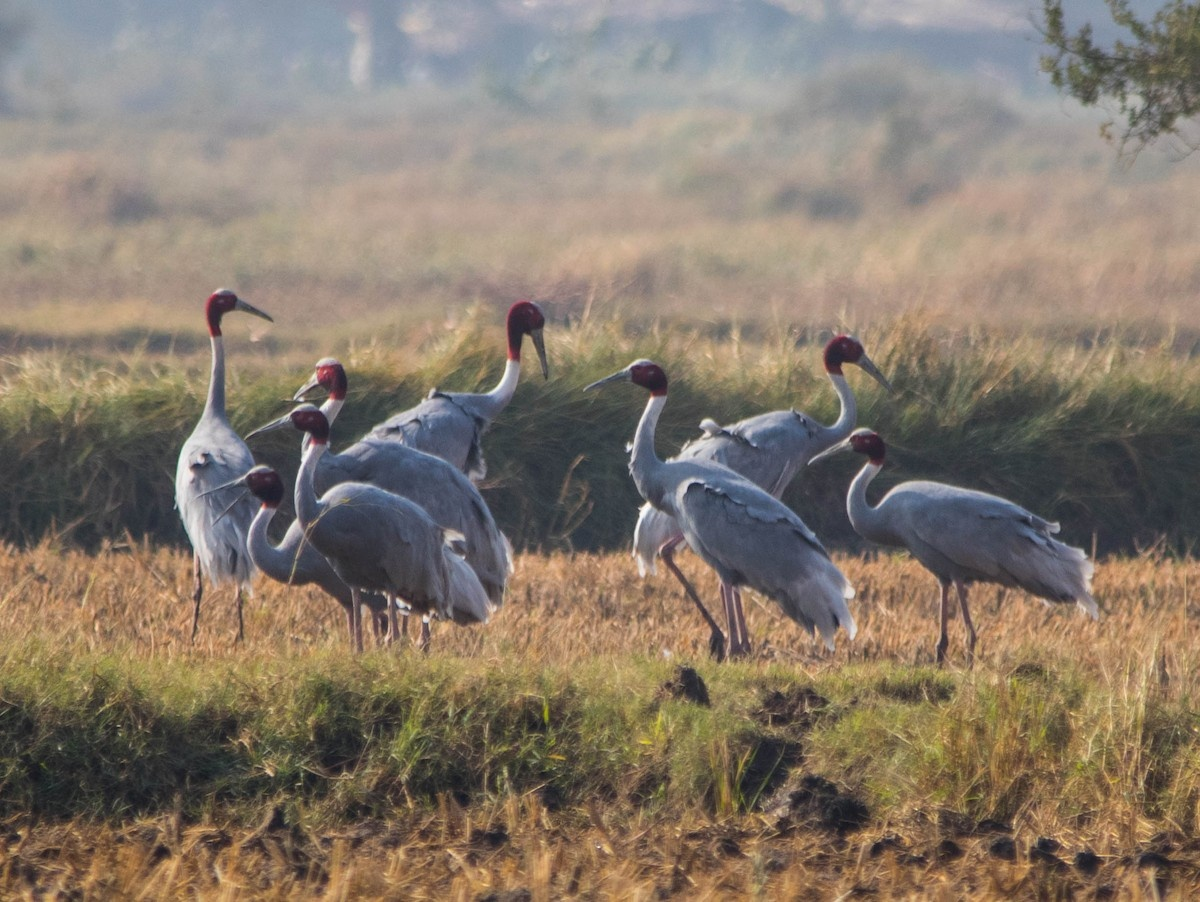crane: (583, 353, 839, 671), (813, 420, 1100, 674), (404, 301, 558, 449), (178, 288, 287, 440), (189, 453, 306, 580), (800, 328, 902, 422), (247, 392, 334, 499)
